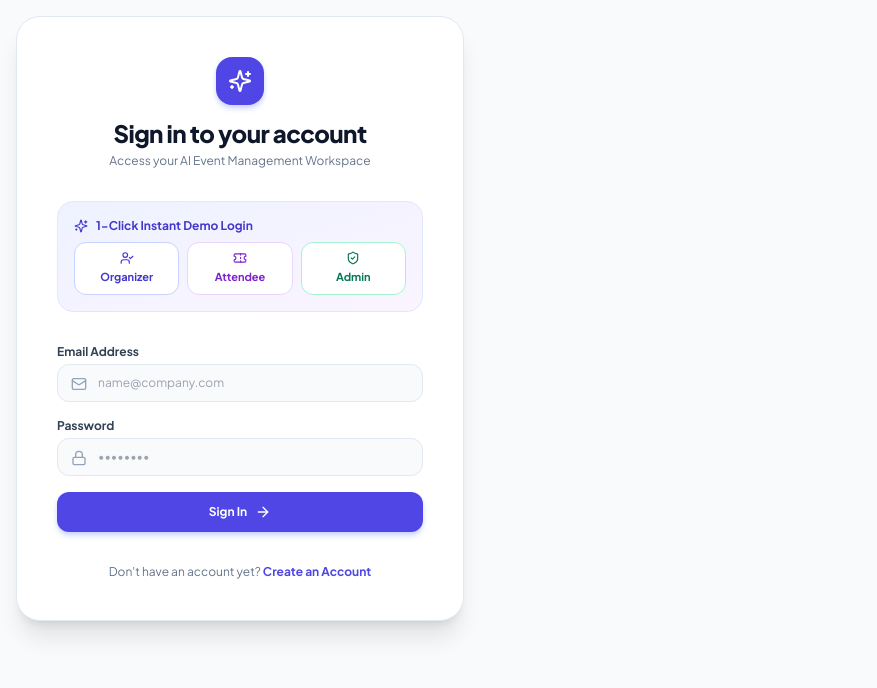
Scenario: Login/Register Form Validation › handles successful Login submission with valid credentials and sets token
Type "rajesh@example.com" into the field with placeholder "name@company.com".
click(240, 382); type("rajesh@example.com")  # box [57, 364, 423, 402]
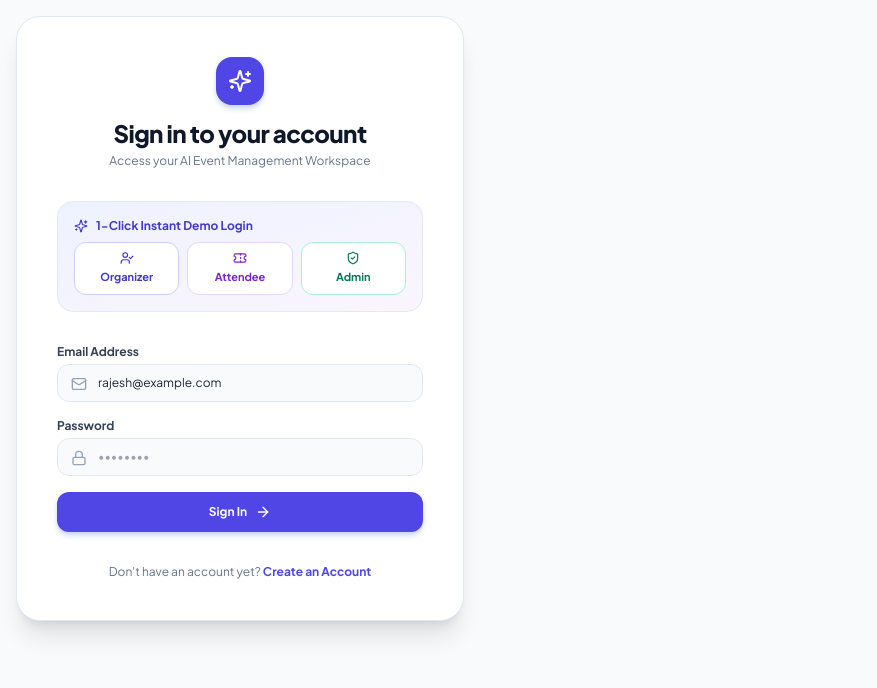
Type "correctpassword" into the password field with placeholder "••••••••".
click(240, 456); type("correctpassword")  # box [57, 438, 423, 476]
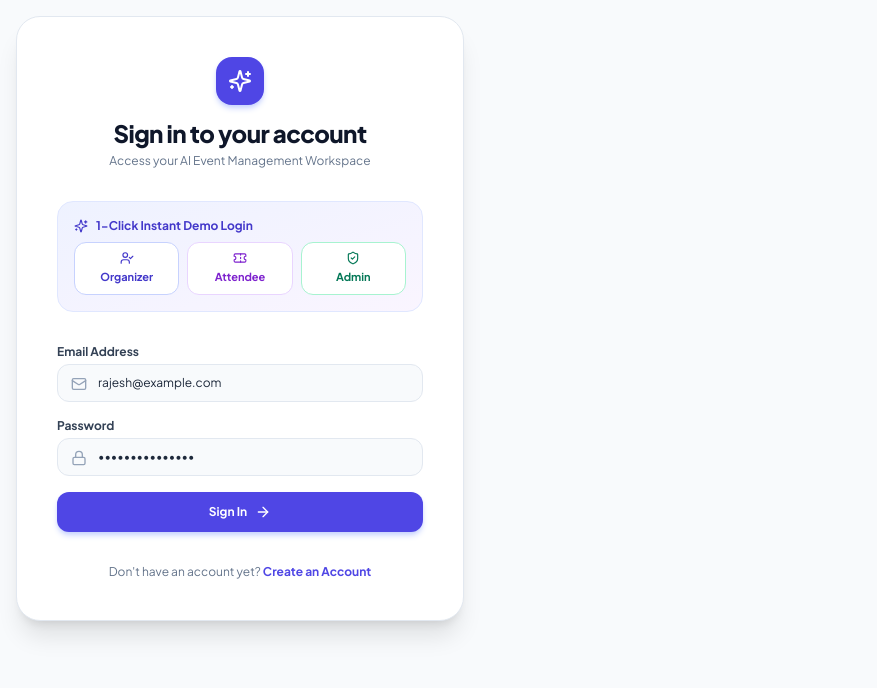
Submit the form "Email Address Password Sign In", box [57, 344, 423, 532]
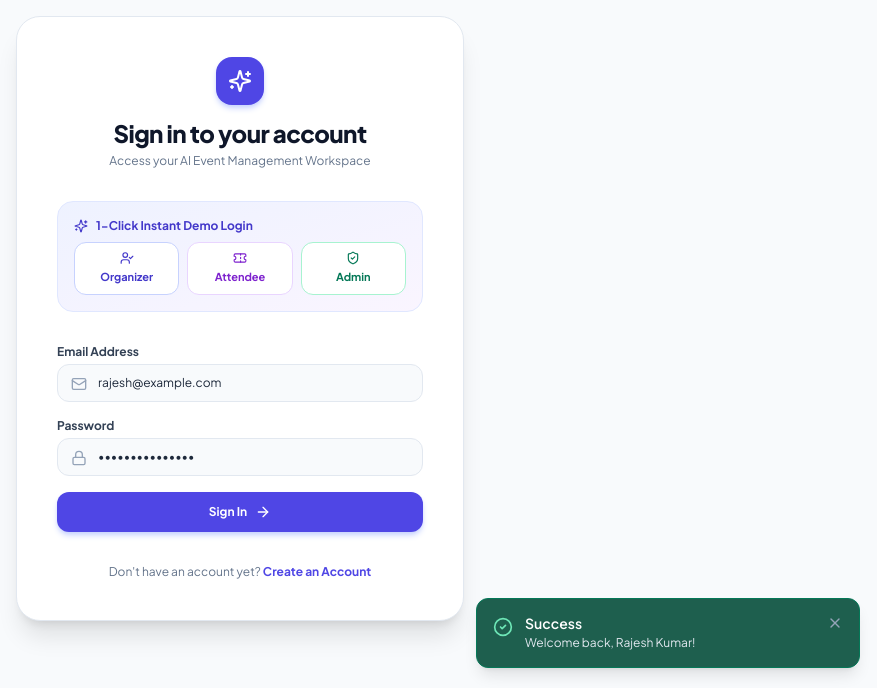
Expected: the text "Welcome back, Rajesh Kumar!" is shown, [525, 634, 695, 650]
